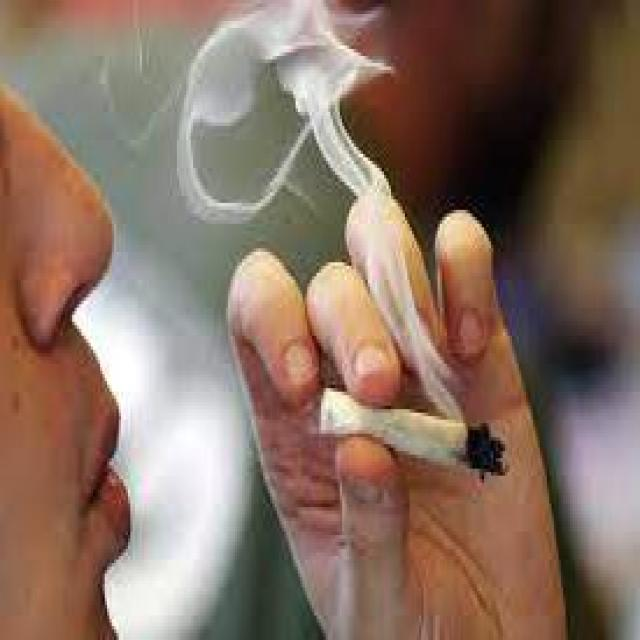smoke: (319, 378, 514, 482)
